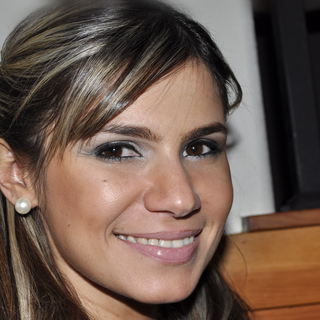eye: (80, 132, 157, 164), (172, 130, 229, 169)
